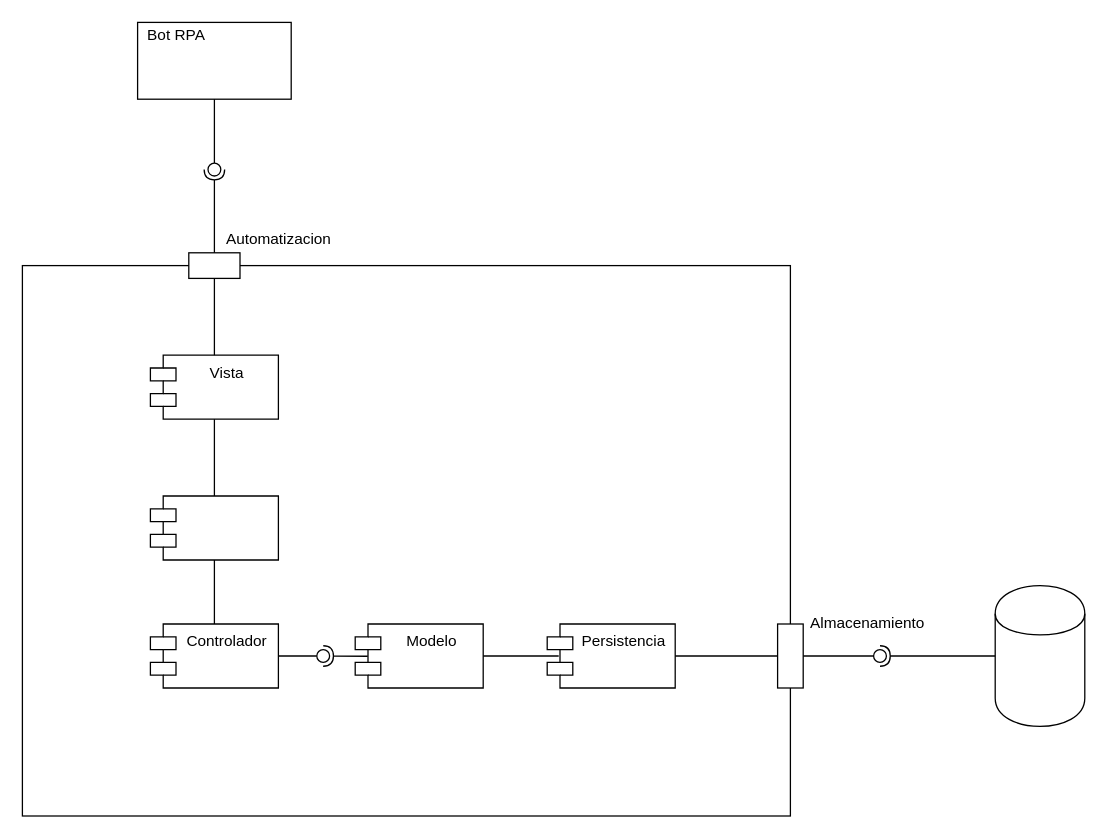
Some shapes in this 1107 by 838 pixel diagram are drawn without their labels. The centre of each missing label's shape, as x and y in pixels:
"Enrutador" goes at point (213, 527).
"MySQL" goes at point (1039, 655).
